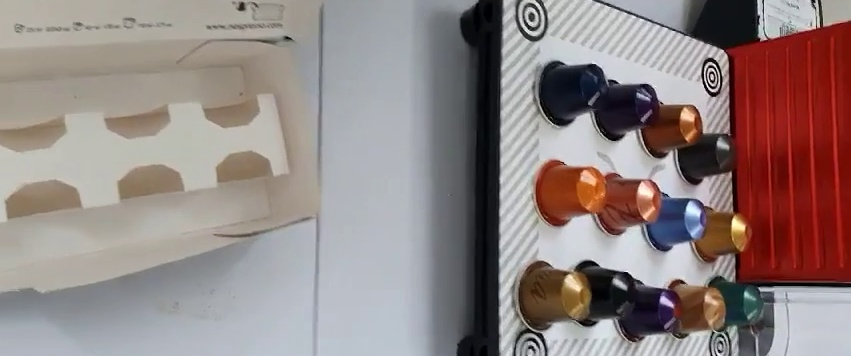capsule_1: (534, 54, 605, 129)
capsule_10: (575, 258, 636, 326)
capsule_11: (617, 277, 681, 345)
capsule_12: (664, 274, 724, 339)
capsule_13: (702, 272, 762, 335)
capsule_2: (595, 71, 660, 140)
capsule_3: (643, 97, 703, 158)
capsule_4: (679, 129, 734, 184)
capsule_5: (534, 156, 605, 228)
capsule_6: (593, 170, 663, 237)
capsule_7: (645, 191, 707, 252)
capsule_8: (694, 204, 751, 261)
capsule_9: (514, 256, 586, 333)
